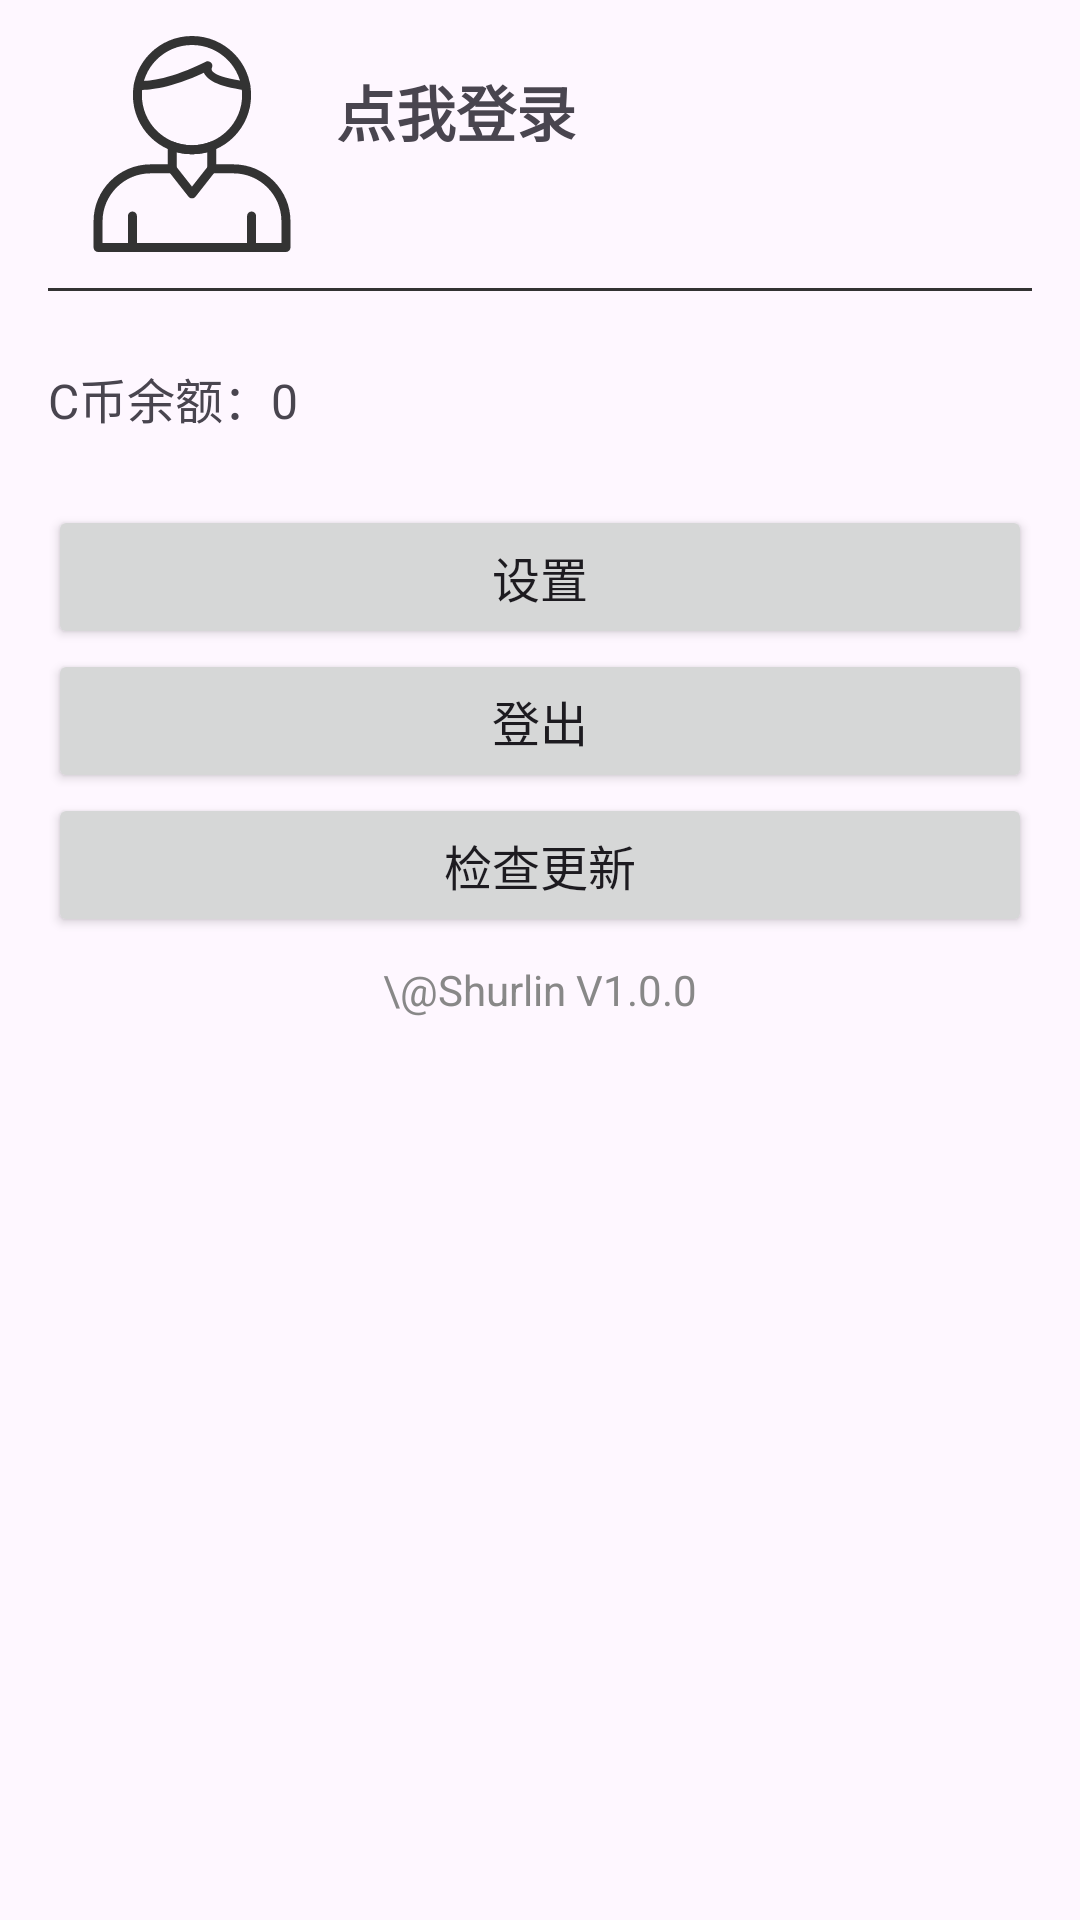

Icons on this 1080×1920 Android screen, each with its box as (x1, y1, x2, y2):
male: (93, 36, 291, 252)
